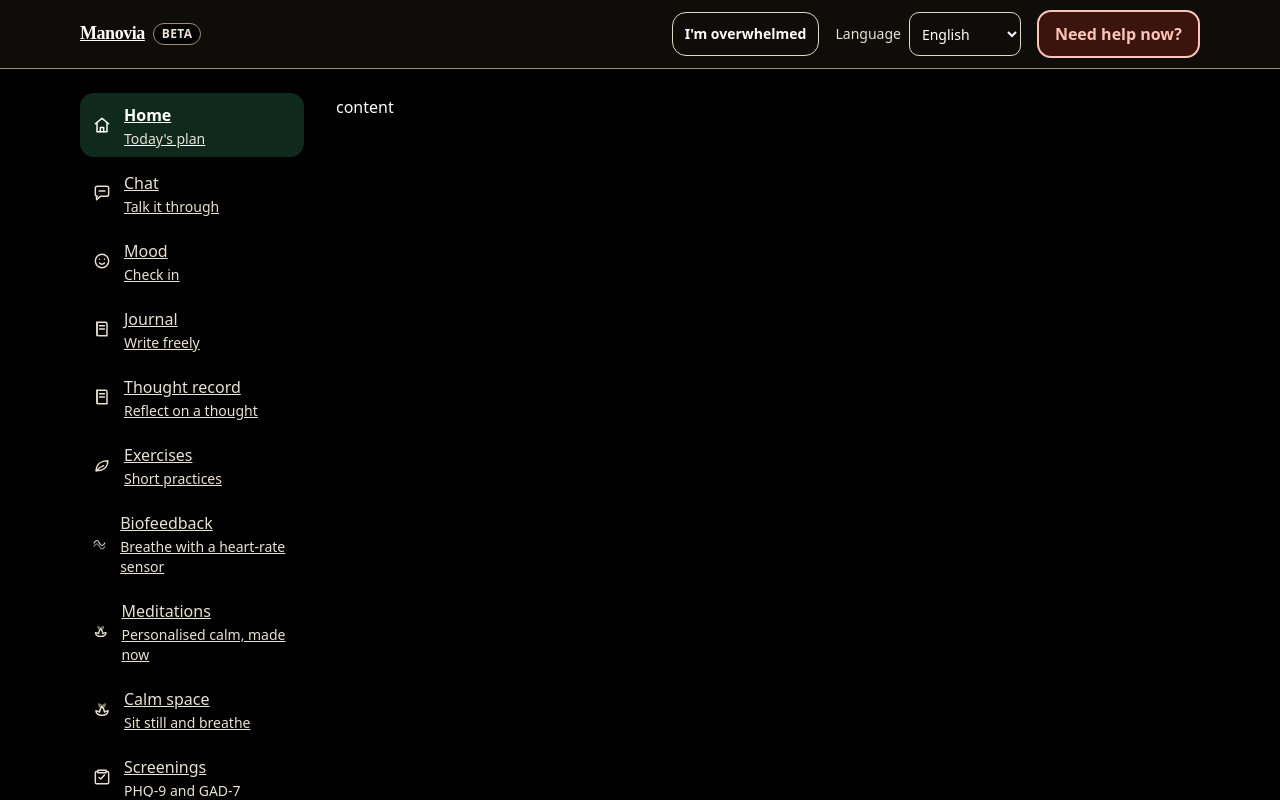
Test case: overwhelmed mode › replaces the full navigation in the shell, and brings it back
The width and height of the screenshot is (1280, 800).
Expected: the navigation bar named "Primary" is shown, left=80, top=93, right=304, bottom=797
Click the button with test id "overwhelmed-toggle".
click(746, 34)  # box left=672, top=12, right=819, bottom=56
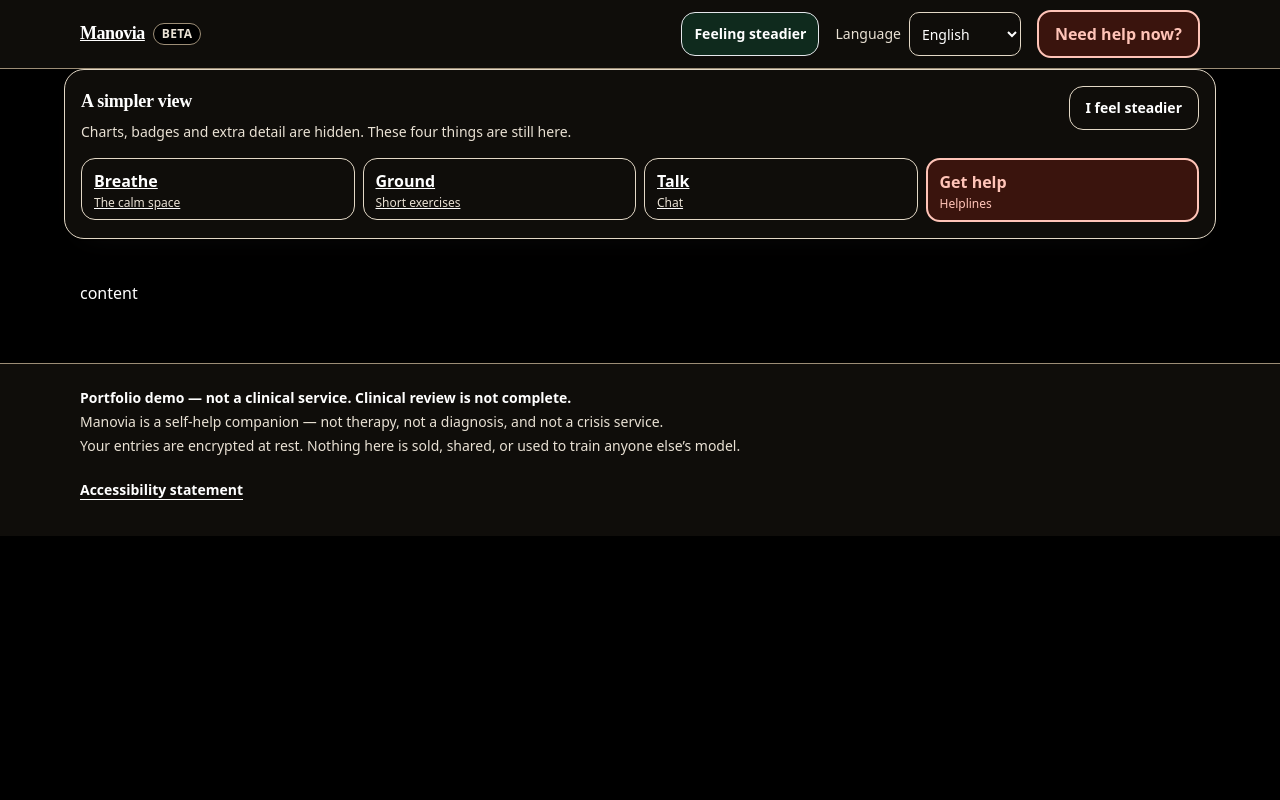
Expected: the text "content" is shown, left=80, top=282, right=138, bottom=304
Result: the navigation bar "Primary" is gone
Result: the element with test id "overwhelmed-bar" is shown at left=64, top=69, right=1216, bottom=238
Click the button with test id "overwhelmed-exit".
click(1134, 108)  # box left=1068, top=86, right=1199, bottom=130
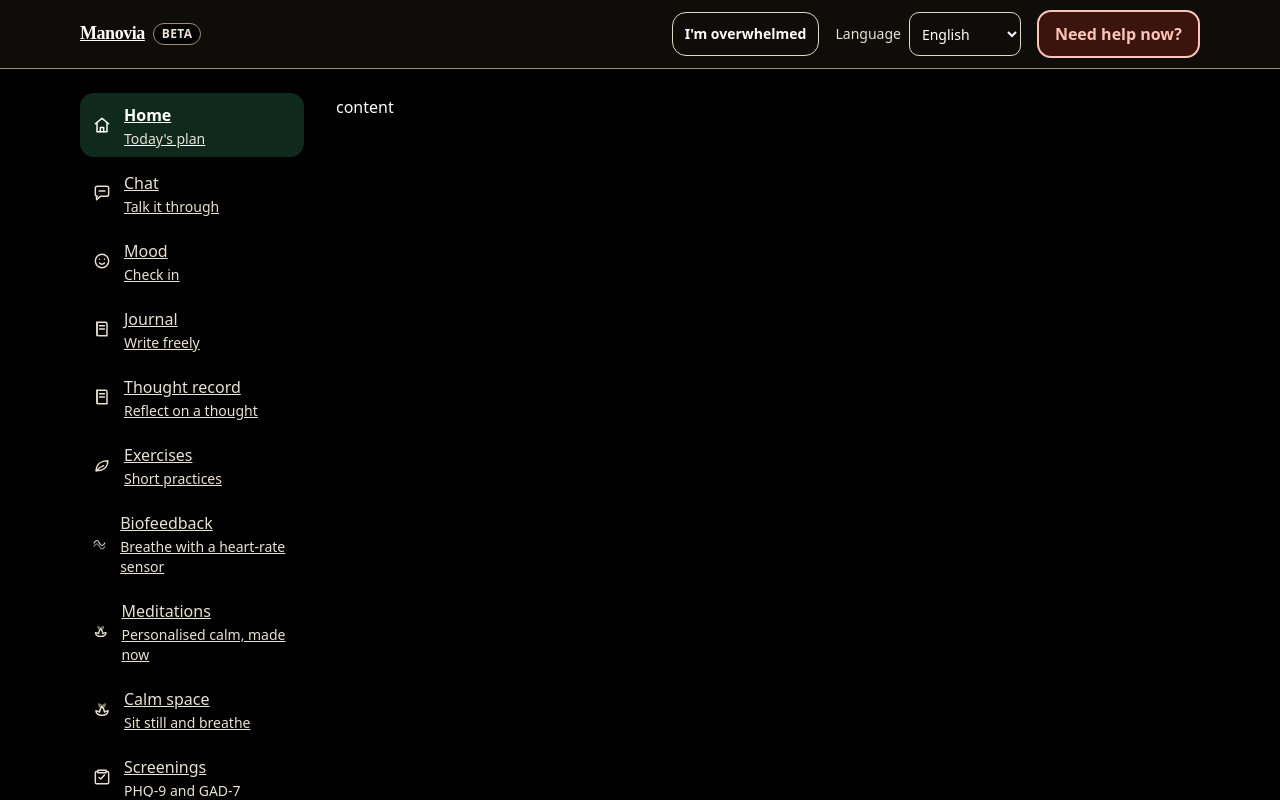
Result: the navigation bar named "Primary" is shown at left=80, top=93, right=304, bottom=797
